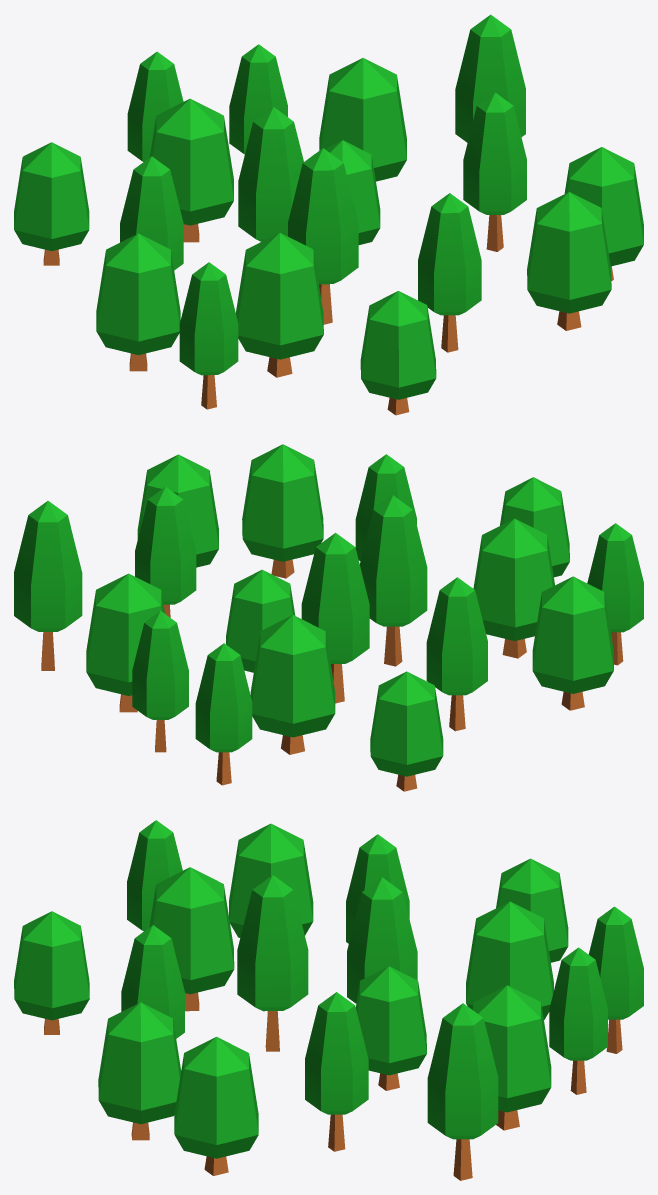
File: nature_forestFlat.fbx
3 views of the same model, one above another, from view 1: azimuth 30°, elevation 25°; view 2: azimuth 150°, elevation 25°; view 3: azimuth 270°, elevation 25° (orthographic). The views are drawn at different scales.
Visible parts, largest first — view 1: Forest; view 2: Forest; view 3: Forest.
Boxes of the visible parts, x1,y1,x2,y2 form: Forest: (14, 14, 643, 415); Forest: (14, 444, 643, 791); Forest: (14, 820, 643, 1180).
Bounding box in the file's own units: 164 × 52.39 × 172.
